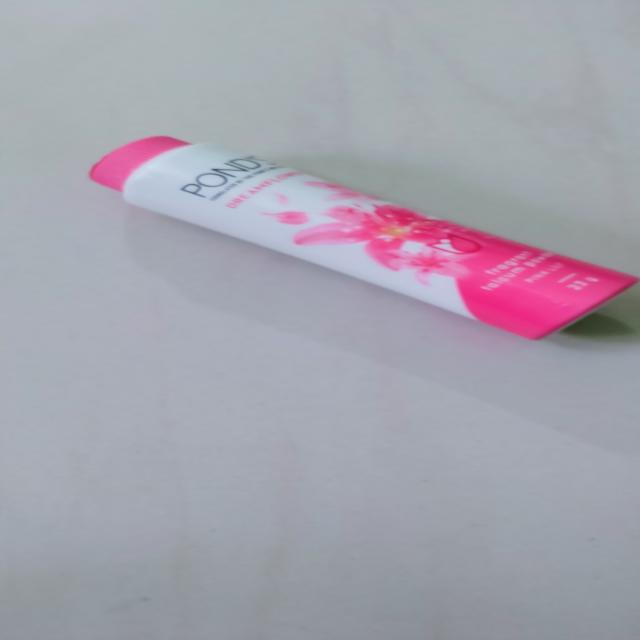powder: (96, 131, 640, 340)
